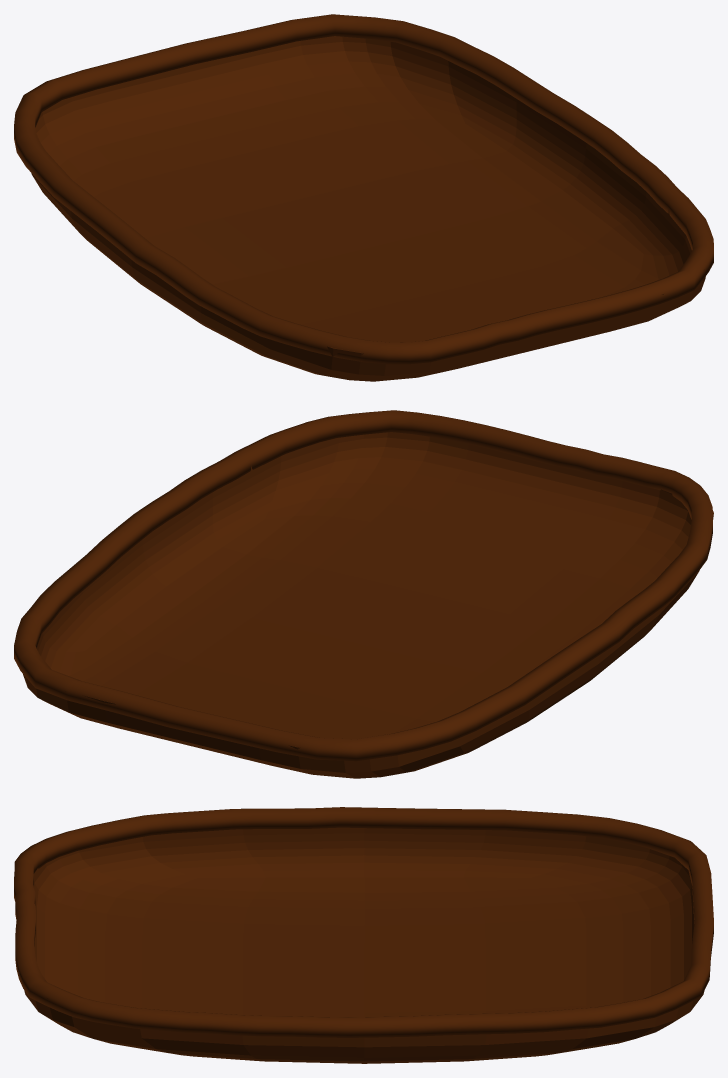
File: Ligka (a).glb
The picture shows the model from 3 angles, top to bottom: view 1: azimuth 30°, elevation 25°; view 2: azimuth 150°, elevation 25°; view 3: azimuth 270°, elevation 25°; orthographic projection. The views are drawn at different scales.
Parts seen in each view (by area): view 1: Basket_Final; view 2: Basket_Final; view 3: Basket_Final.
Boxes of the visible parts, x1,y1,x2,y2 form: Basket_Final: (14,14,713,381); Basket_Final: (14,410,713,778); Basket_Final: (14,807,713,1063).
Size of the model in its own units: 1.98 by 0.2818 by 2.68.
